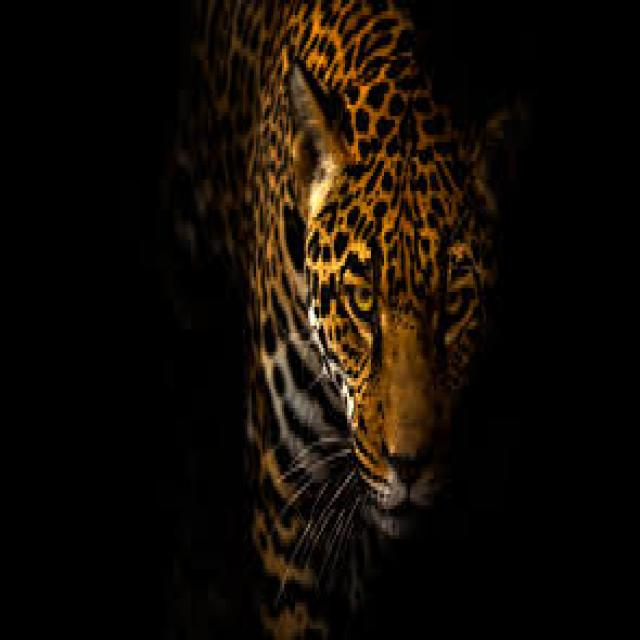Jaguar: (243, 30, 495, 531)
